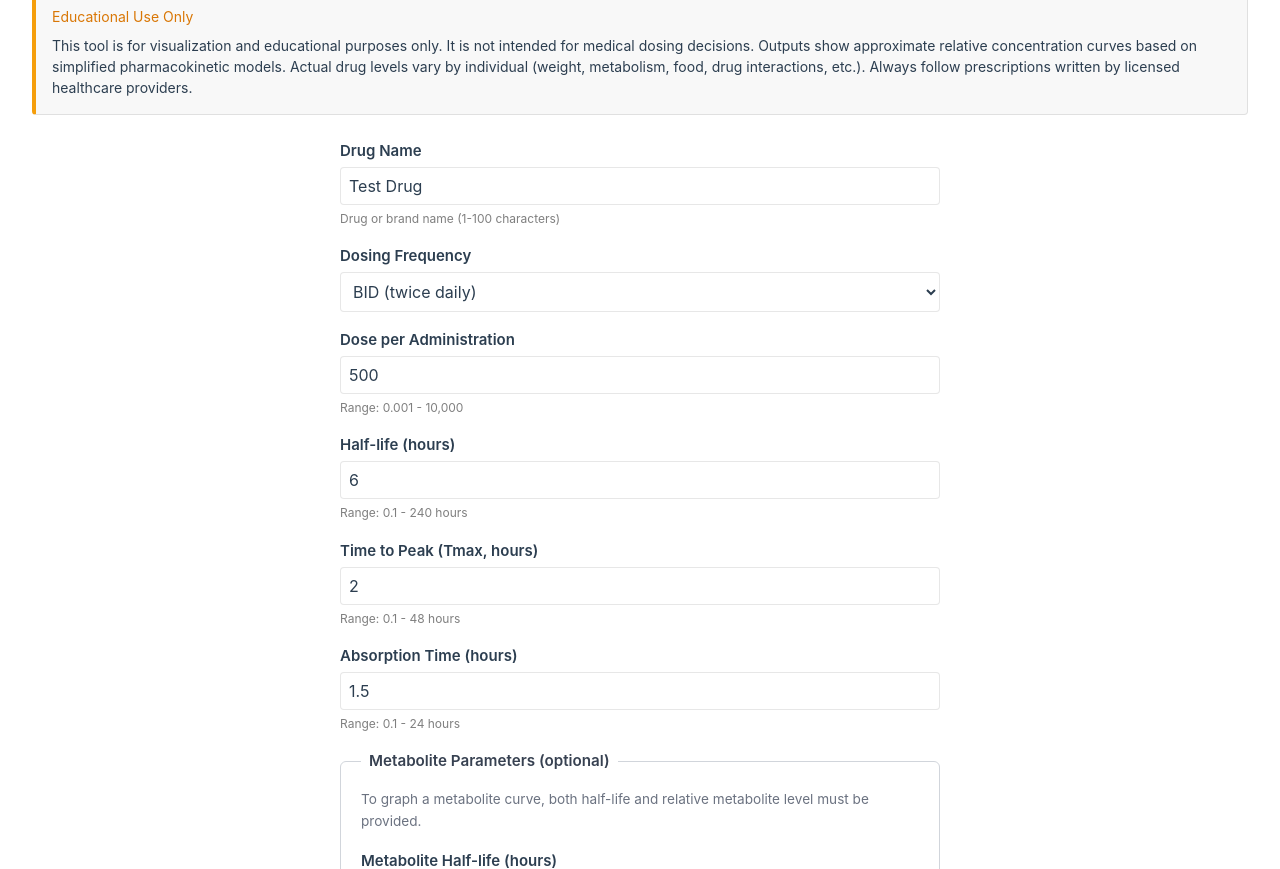
Scenario: PrescriptionForm › frequency-times reactivity › sets standard default times for once frequency
Select "Once daily" in the dropdown with id "rx-frequency": (640, 292) [340, 272, 940, 312]
(page scrolled)
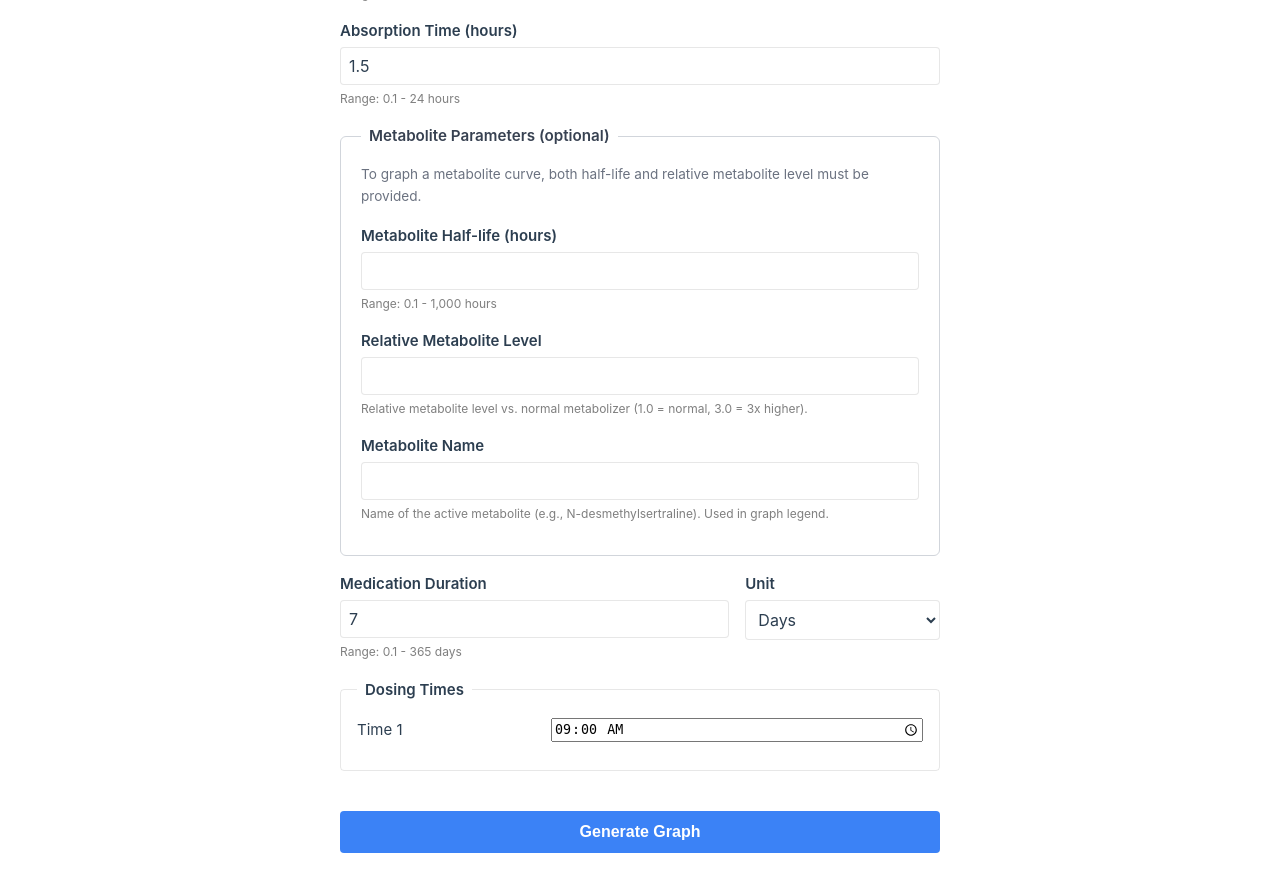
Expected: the time field labelled "Time 1" holds "09:00", [551, 718, 923, 742]
Expected: the number of time fields is 1, [551, 718, 923, 742]
